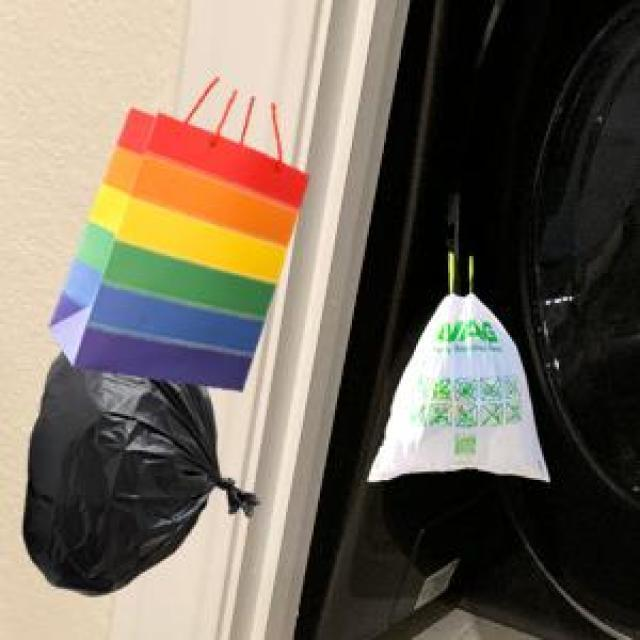miscellaneous trash: (19, 346, 254, 591)
paper: (45, 105, 305, 386)
